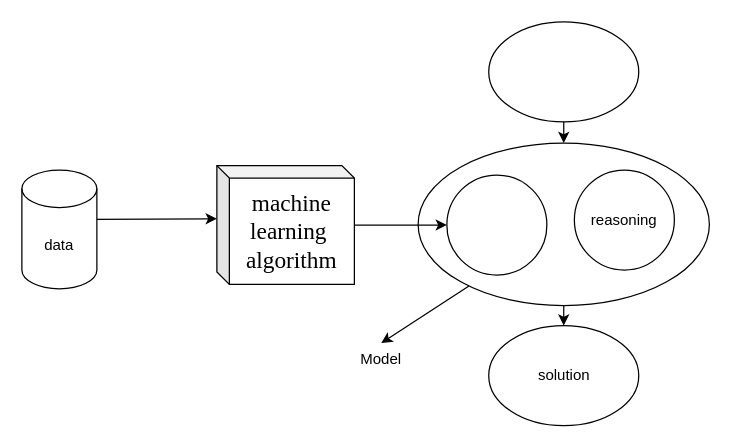
Some shapes in this 731 by 448 pixel diagram are drawn without their labels. The centre of each missing label's shape, as x and y in pixels:
"knowledge" goes at [496,224].
"problem" goes at [563,71].
